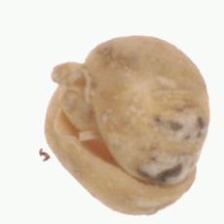L1: (48, 54, 105, 155)
L2: (43, 37, 210, 215)
